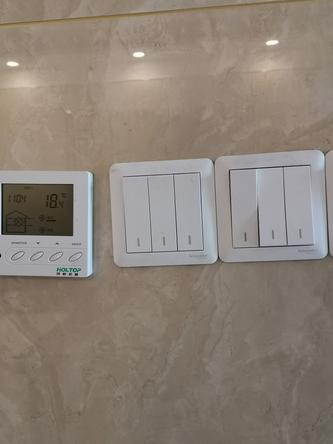switch: (166, 168, 207, 252), (142, 172, 182, 253), (117, 171, 155, 256), (254, 165, 292, 250), (227, 166, 265, 250), (281, 164, 318, 247)
